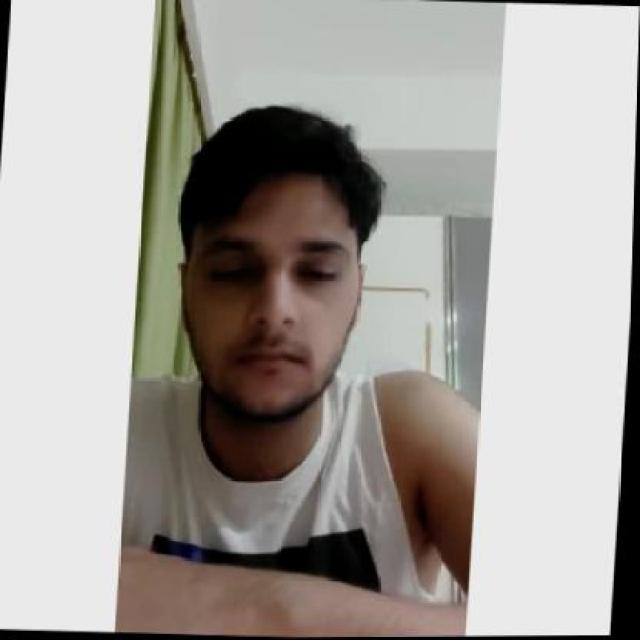inattentif: (172, 102, 378, 424)
